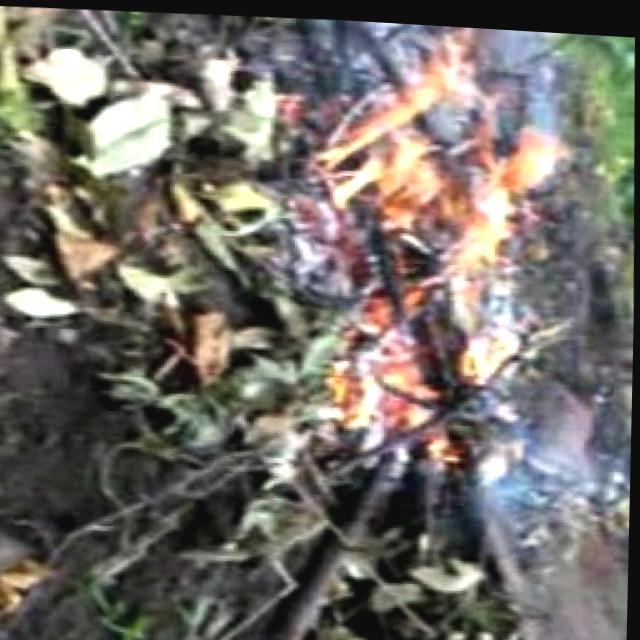helmet: (313, 34, 580, 461)
